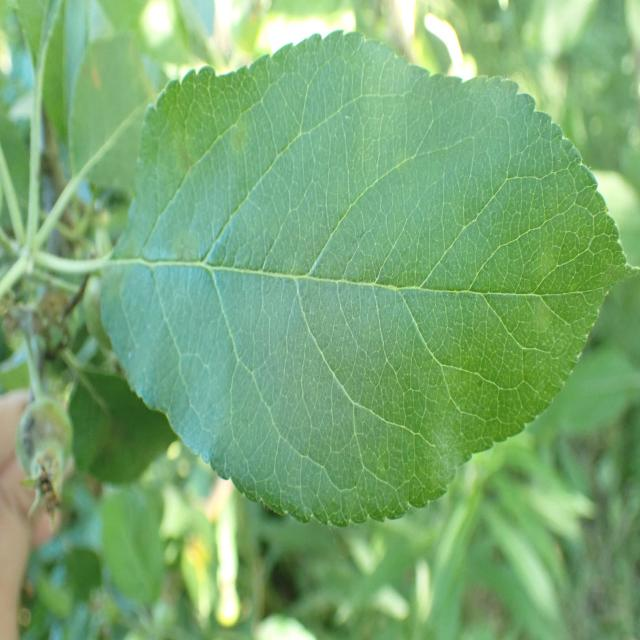scab: (156, 88, 619, 436)
